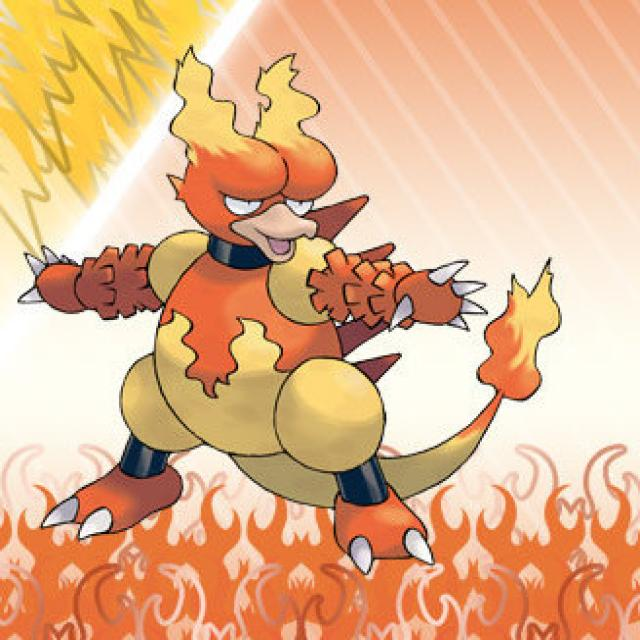Magmar: (92, 58, 432, 546)
